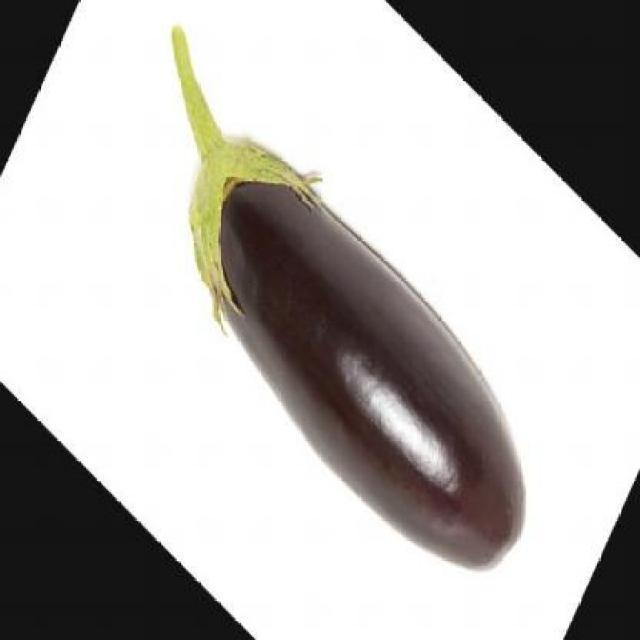eggplant: (156, 23, 530, 580)
